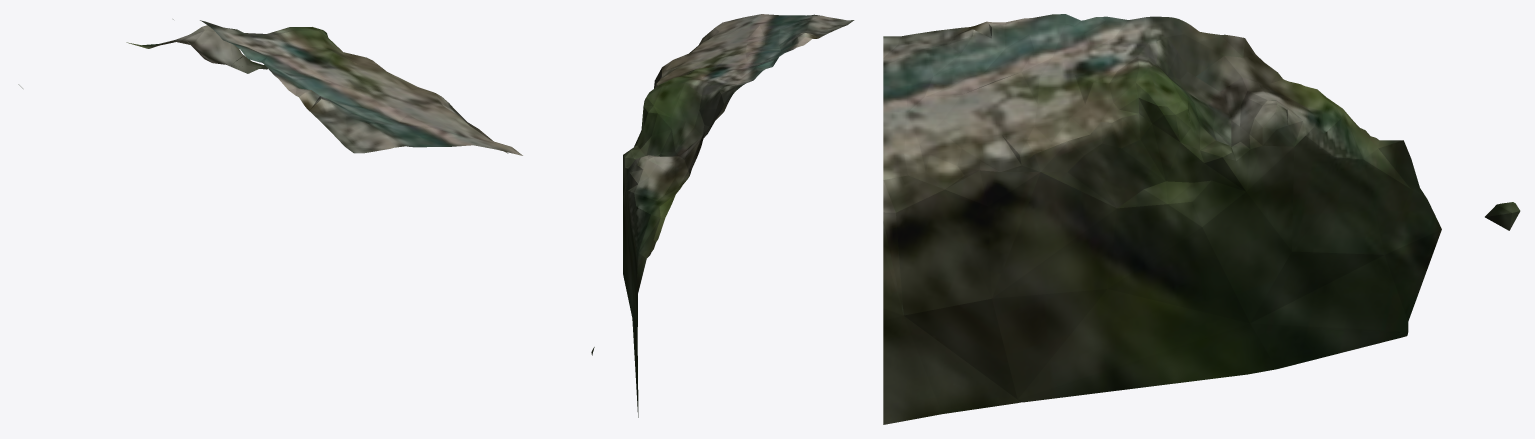
3 views of the same model, side by side, from view 1: azimuth 30°, elevation 25°; view 2: azimuth 150°, elevation 25°; view 3: azimuth 270°, elevation 25° (orthographic). The views are drawn at different scales.
Bounding box in the file's own units: 0.2655 × 0.4165 × 0.7466.
1 material, 1 textured.
